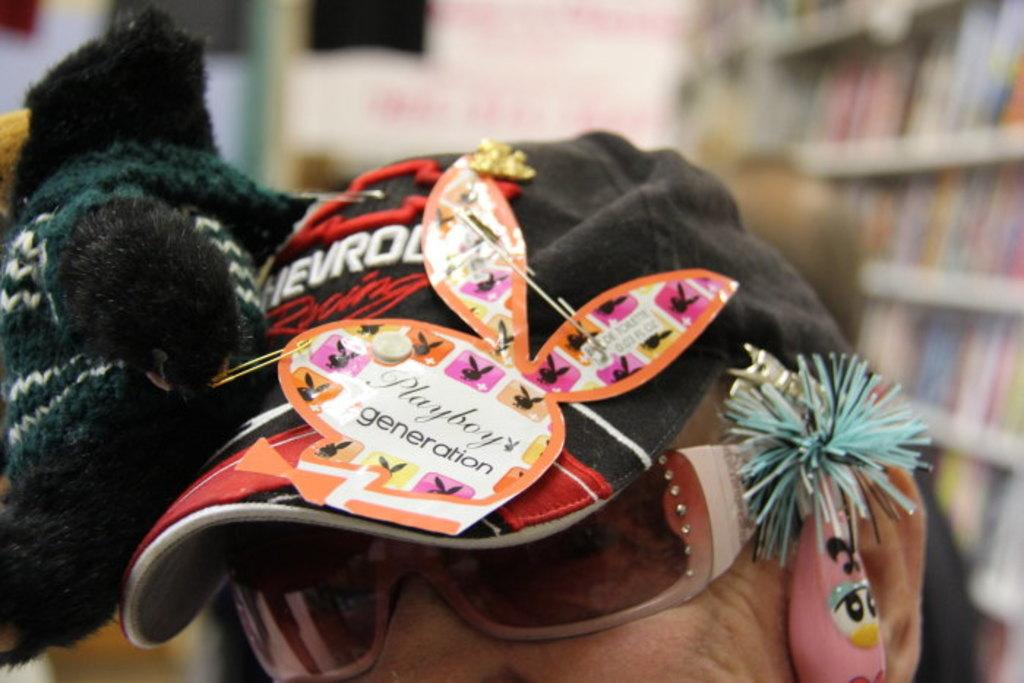Hat: (116, 125, 864, 646)
